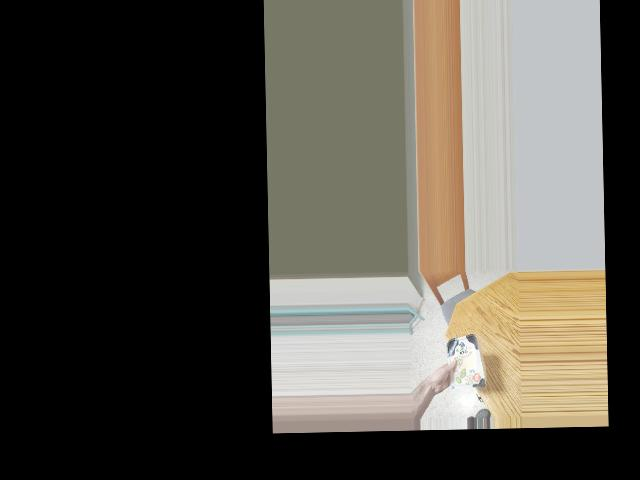cheese: (439, 337, 484, 382)
